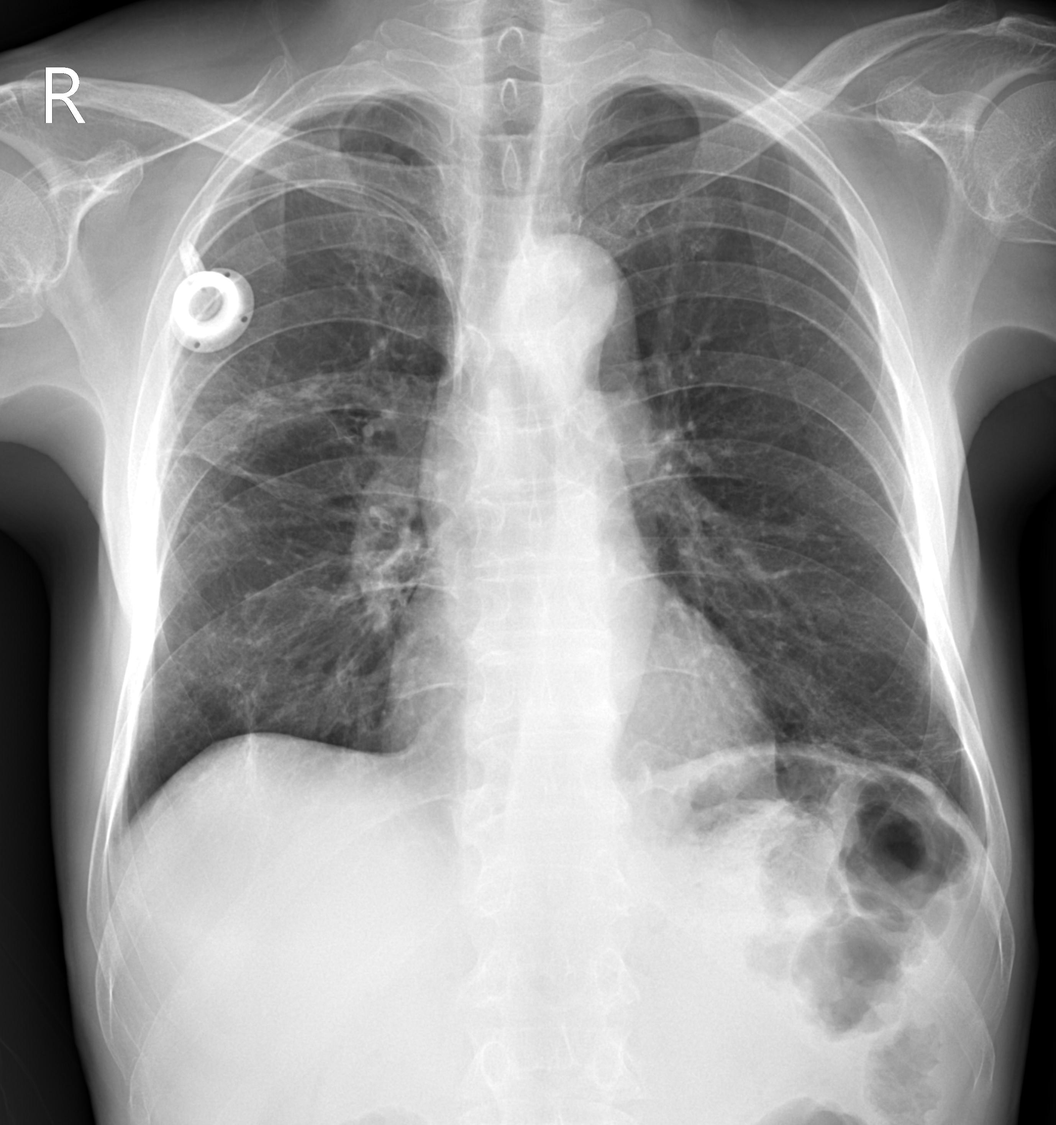Aortic enlargement: (501, 231, 640, 372)
Pleural thickening: (273, 90, 415, 138), (620, 76, 717, 101)
Pulmonary fibrosis: (148, 329, 426, 756), (837, 717, 969, 767), (226, 673, 269, 785)
